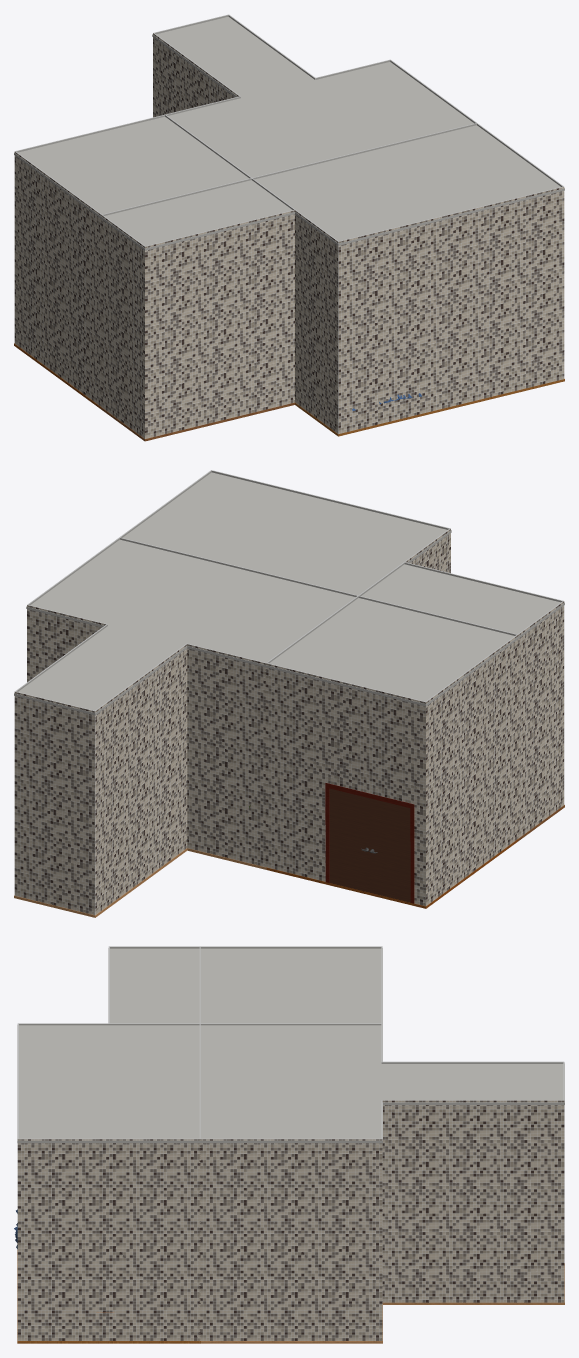
The model's file is ProcTHOR-Train-198.glb.
The picture shows the model from 3 angles, top to bottom: view 1: azimuth 30°, elevation 25°; view 2: azimuth 150°, elevation 25°; view 3: azimuth 270°, elevation 25°; orthographic projection. The views are drawn at different scales.
Parts seen in each view (by area): view 1: WallInside#wall|exterior|0.00|10.74|5.37|10.74, WallInside#wall|exterior|5.37|8.95|8.95|8.95, Ceiling#room|6|c, Ceiling#room|4|c, WallInside#wall|exterior|8.95|3.58|8.95|7.16, Ceiling#room|7|c, WallInside#wall|exterior|8.95|7.16|8.95|8.95, WallInside#wall|exterior|5.37|8.95|5.37|10.74, Ceiling#room|5|c, WallInside#wall|exterior|3.58|0.00|3.58|3.58, Floor#room|4|f, Floor#room|5|f (+1 smaller); view 2: Ceiling#room|6|c, WallInside#wall|exterior|5.37|3.58|8.95|3.58, Ceiling#room|4|c, WallInside#wall|exterior|3.58|0.00|3.58|3.58, WallInside#wall|exterior|8.95|3.58|8.95|7.16, WallInside#wall|exterior|1.79|0.00|3.58|0.00, WallInside#wall|exterior|3.58|3.58|5.37|3.58, Ceiling#room|7|c, WallInside#wall|exterior|8.95|7.16|8.95|8.95, Ceiling#room|5|c, Doorway_Door_1a, Doorway_Door_1b (+7 smaller); view 3: WallInside#wall|exterior|0.00|3.58|0.00|7.16, WallInside#wall|exterior|0.00|7.16|0.00|10.74, WallInside#wall|exterior|1.79|0.00|1.79|3.58, Ceiling#room|6|c, Ceiling#room|4|c, Ceiling#room|7|c, Ceiling#room|5|c, Floor#room|6|f, Floor#room|4|f, WallInside#wall|7|8.95|3.58|8.95|7.16, WallInside#wall|6|5.37|3.58|5.37|7.16.
Part boxes in pixels (bbox=[...]): WallInside#wall|exterior|0.00|10.74|5.37|10.74: bbox=[338, 187, 564, 433]; WallInside#wall|exterior|5.37|8.95|8.95|8.95: bbox=[145, 210, 294, 438]; Ceiling#room|6|c: bbox=[152, 16, 474, 178]; Ceiling#room|4|c: bbox=[252, 125, 564, 245]; WallInside#wall|exterior|8.95|3.58|8.95|7.16: bbox=[14, 151, 101, 406]; Ceiling#room|7|c: bbox=[14, 117, 250, 218]; WallInside#wall|exterior|8.95|7.16|8.95|8.95: bbox=[101, 215, 144, 438]; WallInside#wall|exterior|5.37|8.95|5.37|10.74: bbox=[295, 210, 338, 433]; Ceiling#room|5|c: bbox=[101, 180, 294, 250]; WallInside#wall|exterior|3.58|0.00|3.58|3.58: bbox=[153, 33, 239, 117]; Floor#room|4|f: bbox=[295, 379, 564, 436]; Floor#room|5|f: bbox=[101, 402, 294, 441]; Ceiling#room|6|c: bbox=[14, 540, 358, 715]; WallInside#wall|exterior|5.37|3.58|8.95|3.58: bbox=[265, 663, 425, 906]; Ceiling#room|4|c: bbox=[121, 472, 451, 597]; WallInside#wall|exterior|3.58|0.00|3.58|3.58: bbox=[95, 643, 187, 914]; WallInside#wall|exterior|8.95|3.58|8.95|7.16: bbox=[426, 635, 518, 905]; WallInside#wall|exterior|1.79|0.00|3.58|0.00: bbox=[14, 692, 95, 915]; WallInside#wall|exterior|3.58|3.58|5.37|3.58: bbox=[187, 644, 266, 866]; Ceiling#room|7|c: bbox=[266, 598, 517, 706]; WallInside#wall|exterior|8.95|7.16|8.95|8.95: bbox=[518, 601, 564, 838]; Ceiling#room|5|c: bbox=[359, 564, 564, 638]; Doorway_Door_1a: bbox=[370, 798, 410, 902]; Doorway_Door_1b: bbox=[329, 788, 369, 892]; WallInside#wall|exterior|0.00|3.58|0.00|7.16: bbox=[199, 1139, 382, 1340]; WallInside#wall|exterior|0.00|7.16|0.00|10.74: bbox=[17, 1139, 200, 1340]; WallInside#wall|exterior|1.79|0.00|1.79|3.58: bbox=[382, 1100, 564, 1302]; Ceiling#room|6|c: bbox=[199, 1025, 564, 1143]; Ceiling#room|4|c: bbox=[17, 1025, 200, 1143]; Ceiling#room|7|c: bbox=[199, 948, 382, 1024]; Ceiling#room|5|c: bbox=[108, 948, 200, 1023]; Floor#room|6|f: bbox=[199, 1263, 564, 1343]; Floor#room|4|f: bbox=[17, 1250, 200, 1343]; WallInside#wall|7|8.95|3.58|8.95|7.16: bbox=[200, 946, 382, 948]; WallInside#wall|6|5.37|3.58|5.37|7.16: bbox=[200, 1023, 382, 1025].
Size of what is drawn, in the model's own units: 9.03 by 4.43 by 10.84.
221 materials, 89 textured.
